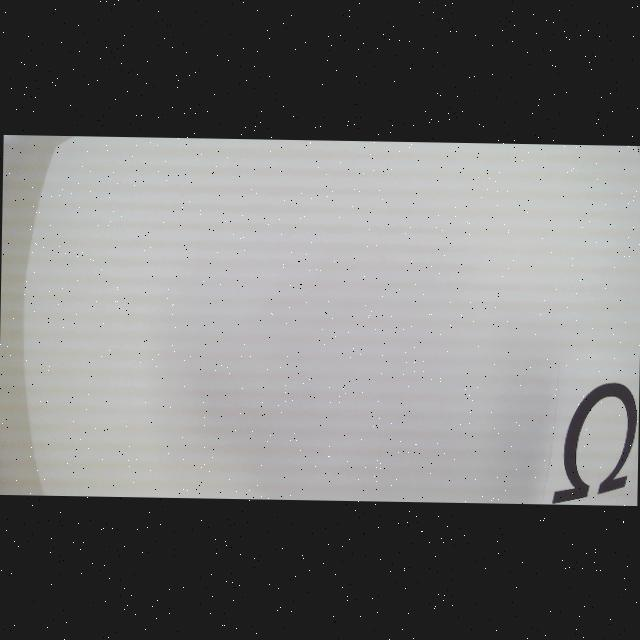OMEGA: (552, 381, 638, 505)
